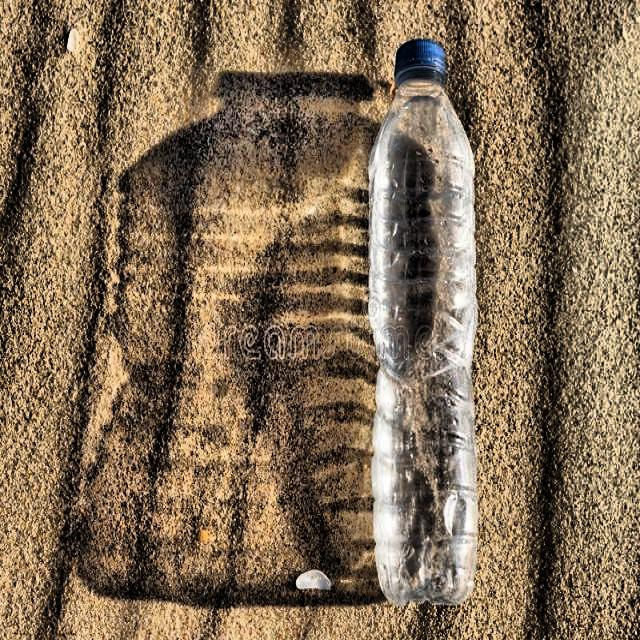plastic bottle: (369, 39, 478, 606)
